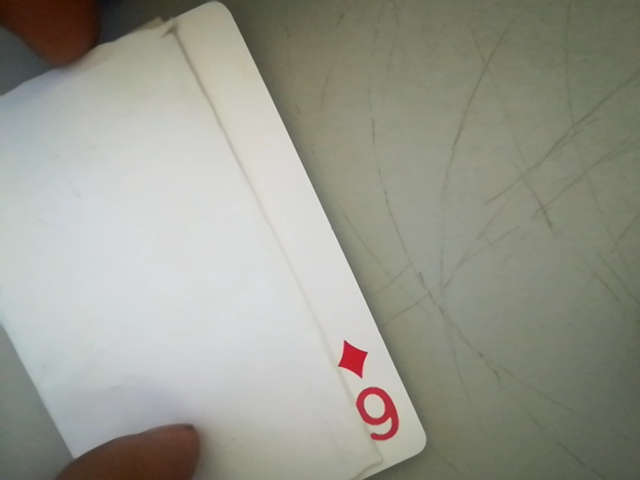fk 6: (329, 336, 412, 452)
